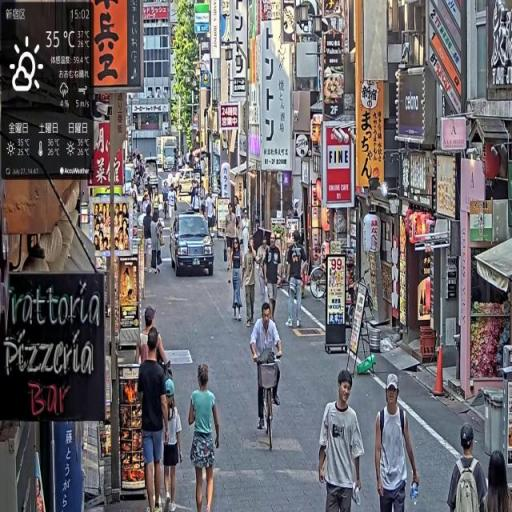person: (318, 366, 367, 512), (375, 379, 422, 512), (138, 332, 171, 512), (188, 361, 222, 512), (250, 299, 283, 436), (447, 425, 489, 511), (162, 379, 185, 512), (136, 305, 172, 374), (264, 232, 284, 325), (484, 452, 512, 512), (229, 235, 245, 322), (243, 240, 259, 327)
